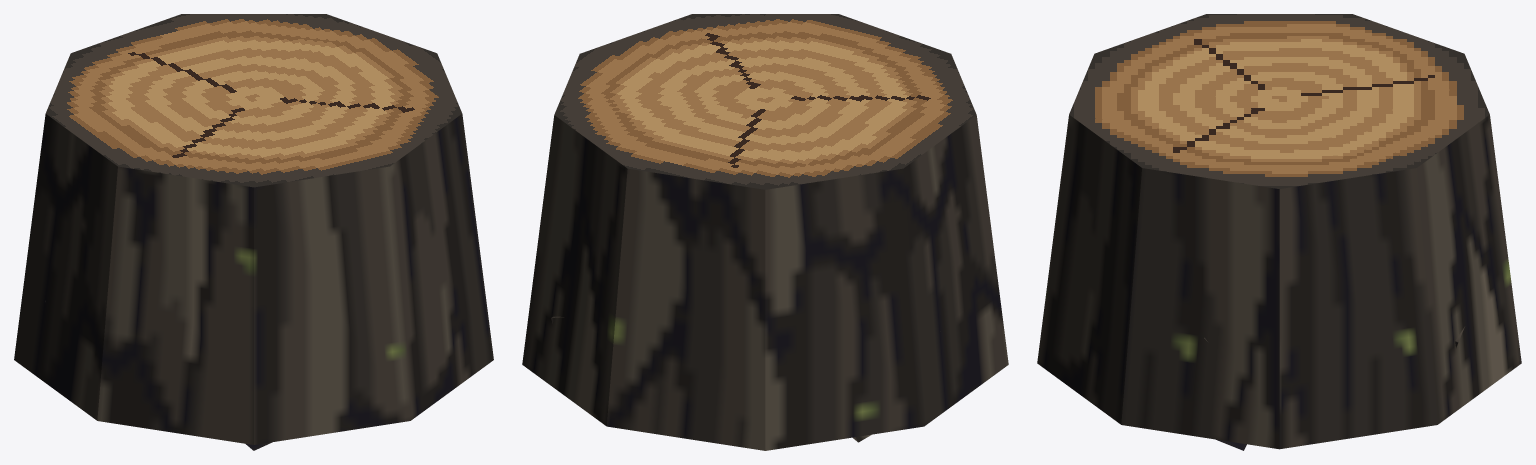
File: VG_TreeStump.obj
3 views of the same model, side by side, from view 1: azimuth 30°, elevation 25°; view 2: azimuth 150°, elevation 25°; view 3: azimuth 270°, elevation 25° (orthographic).
Visible parts, largest first — view 1: VG_TreeStump_Mesh_M_Grnd_TreeBark, VG_TreeStump_Mesh_M_Town_StumpTop; view 2: VG_TreeStump_Mesh_M_Grnd_TreeBark, VG_TreeStump_Mesh_M_Town_StumpTop; view 3: VG_TreeStump_Mesh_M_Grnd_TreeBark, VG_TreeStump_Mesh_M_Town_StumpTop.
Boxes of the visible parts, x1=… form: VG_TreeStump_Mesh_M_Grnd_TreeBark: x1=14, y1=114, x2=493, y2=450; VG_TreeStump_Mesh_M_Town_StumpTop: x1=45, y1=14, x2=462, y2=187; VG_TreeStump_Mesh_M_Grnd_TreeBark: x1=522, y1=115, x2=1008, y2=450; VG_TreeStump_Mesh_M_Town_StumpTop: x1=554, y1=14, x2=976, y2=189; VG_TreeStump_Mesh_M_Grnd_TreeBark: x1=1037, y1=115, x2=1521, y2=450; VG_TreeStump_Mesh_M_Town_StumpTop: x1=1069, y1=14, x2=1489, y2=188.
Size of the model in its own units: 0.7371 by 0.4817 by 0.7484.
Materials: 2 (2 with a texture image).
